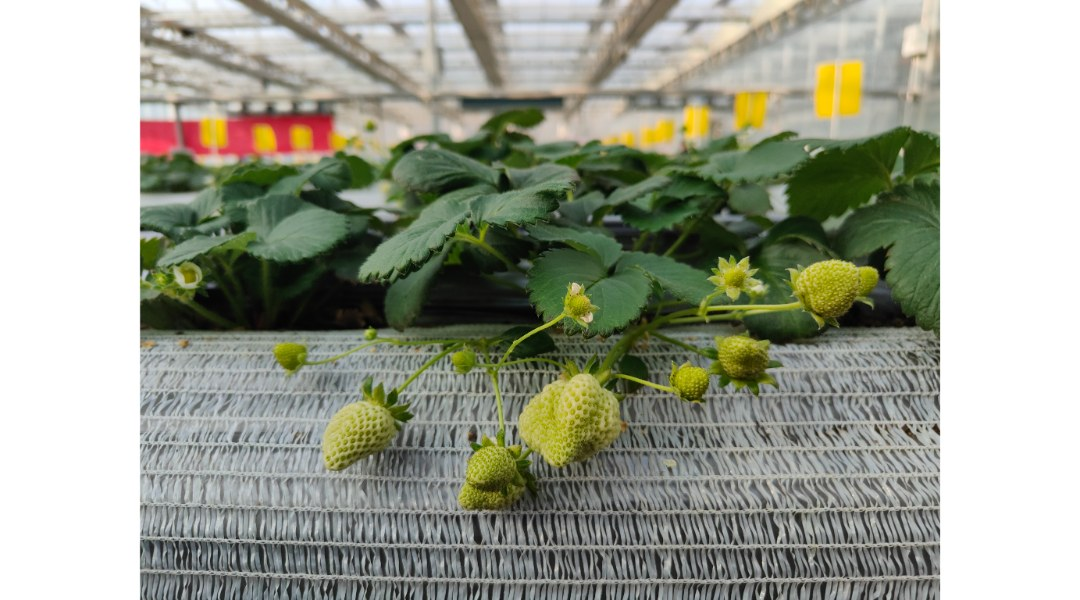berry: (515, 383, 620, 465), (325, 383, 403, 480), (563, 373, 627, 474), (787, 251, 892, 311), (721, 330, 791, 400), (660, 358, 717, 421), (447, 467, 525, 513), (708, 246, 767, 304), (464, 434, 525, 490), (553, 284, 606, 330), (270, 340, 305, 384)
